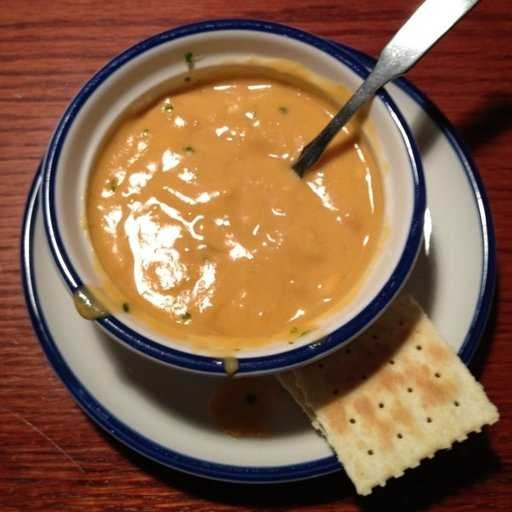soup: (76, 85, 375, 345)
